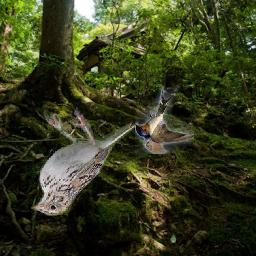Sparrow: (31, 106, 139, 216)
Swallow: (136, 86, 195, 155)
